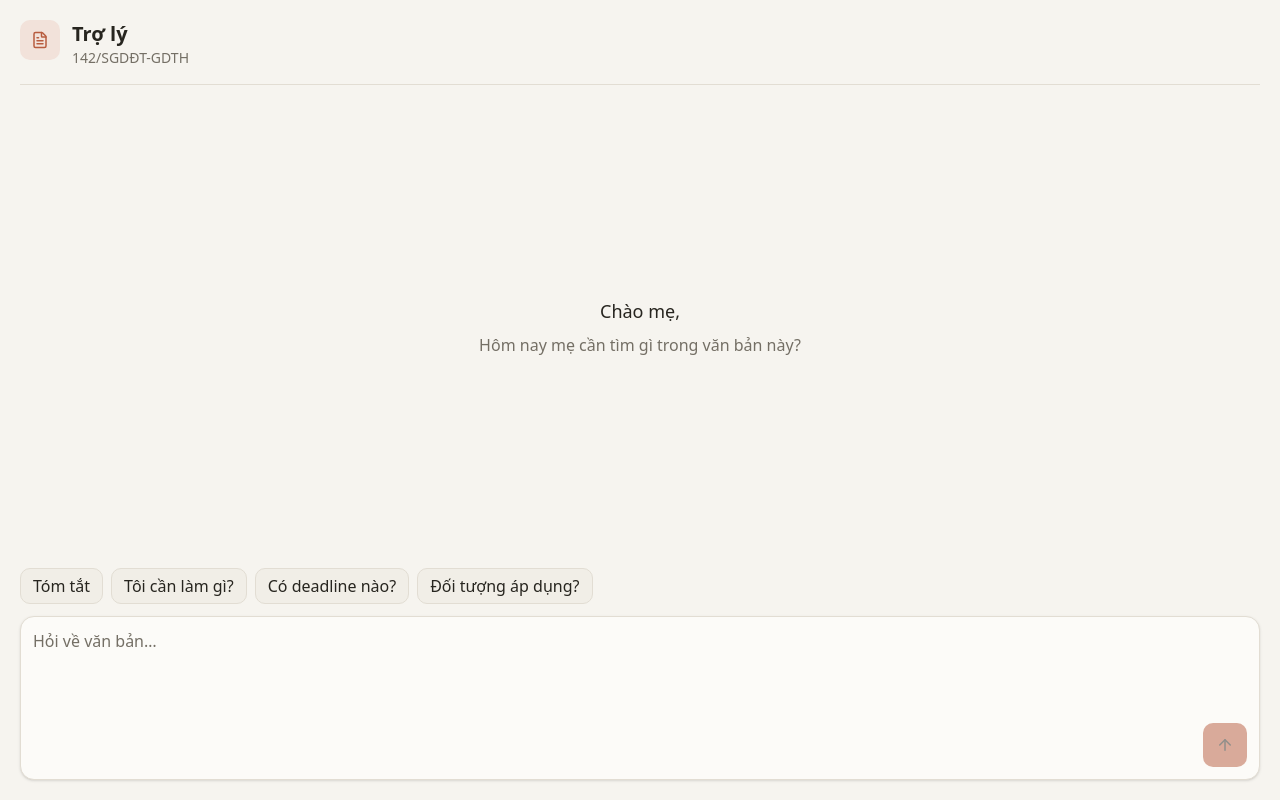
AssistantPanel › renders the insufficient_evidence response state through AssistantStates
Click the button "Tóm tắt": coordinates (62, 586) [20,568,103,604]
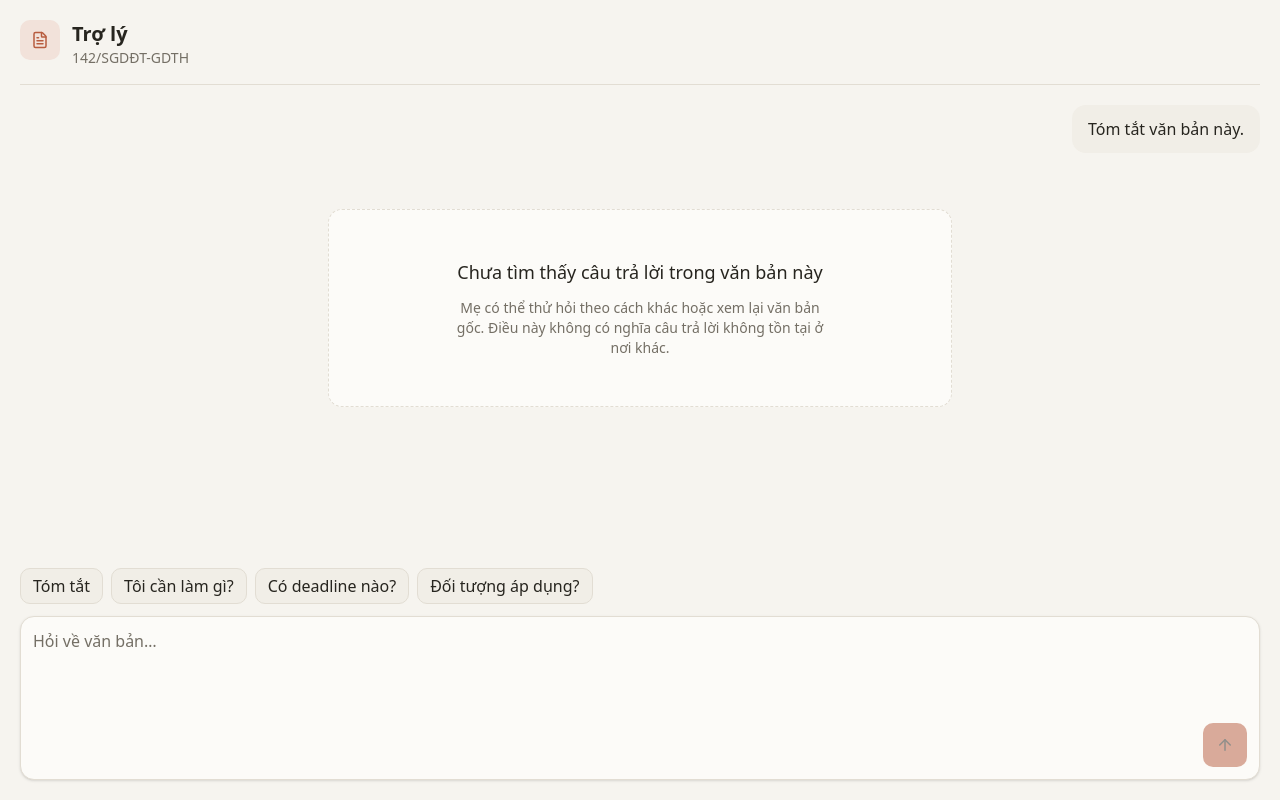
Expected: the element with test id "assistant-insufficient-evidence" is shown, [328,209,952,407]
Expected: the text "Chưa tìm thấy câu trả lời trong văn bản này" is shown, [457,258,823,286]
